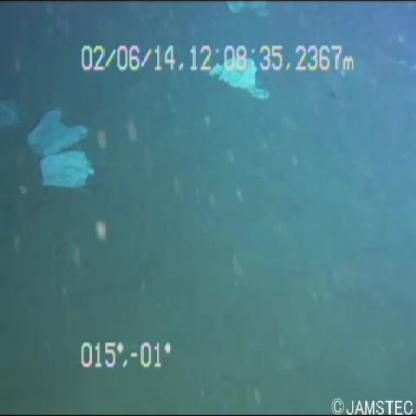Rác: (16, 97, 102, 188), (206, 38, 278, 118)
